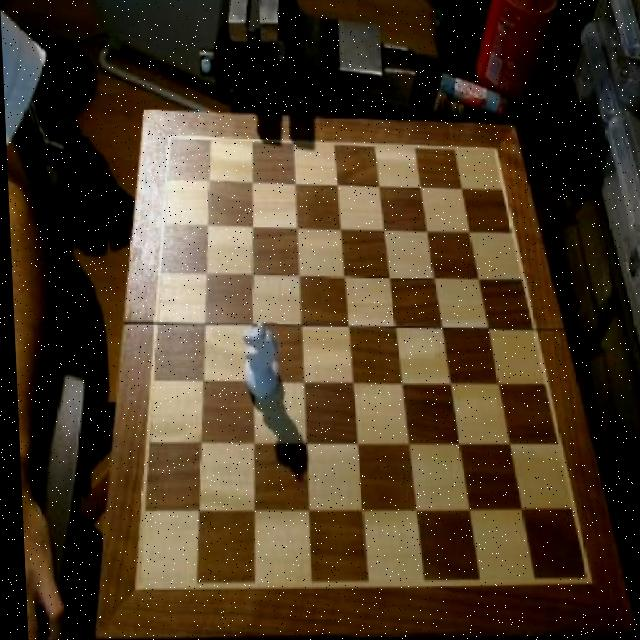white-king: (237, 321, 279, 405)
